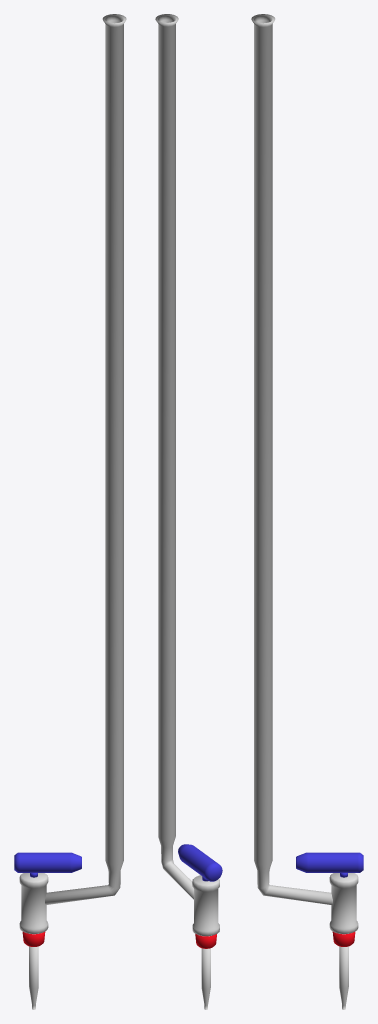
The model's file is burette.fbx.
3 views of the same model, side by side, from view 1: azimuth 90°, elevation 25°; view 2: azimuth 210°, elevation 25°; view 3: azimuth 270°, elevation 25° (orthographic). The views are drawn at different scales.
Visible parts, largest first — view 1: Glass, Handle; view 2: Glass, Handle, Bottom; view 3: Glass, Handle.
Boxes of the visible parts, bbox=[...] form: Glass: bbox=[19, 14, 126, 1009]; Handle: bbox=[14, 852, 81, 877]; Glass: bbox=[155, 14, 219, 1009]; Handle: bbox=[178, 844, 222, 881]; Bottom: bbox=[195, 934, 216, 948]; Glass: bbox=[251, 14, 358, 1009]; Handle: bbox=[296, 852, 363, 877].
Bounding box in the file's own units: 2.34 × 88.68 × 9.14.
